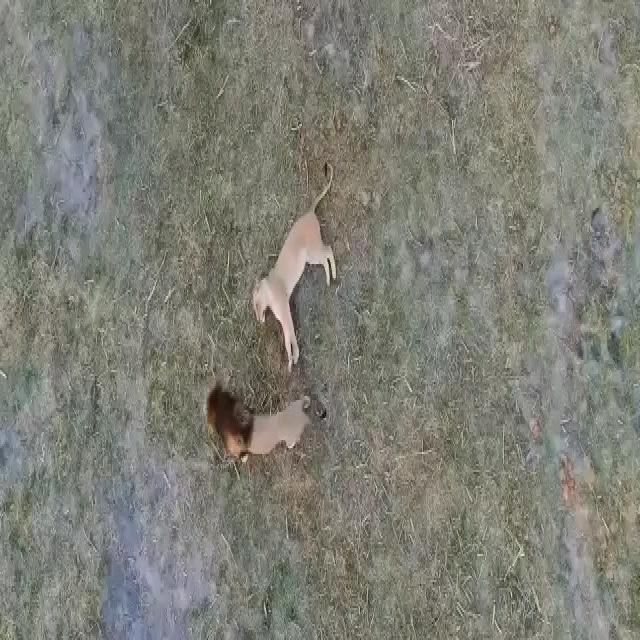Lion: (250, 170, 344, 366), (196, 373, 326, 463)
